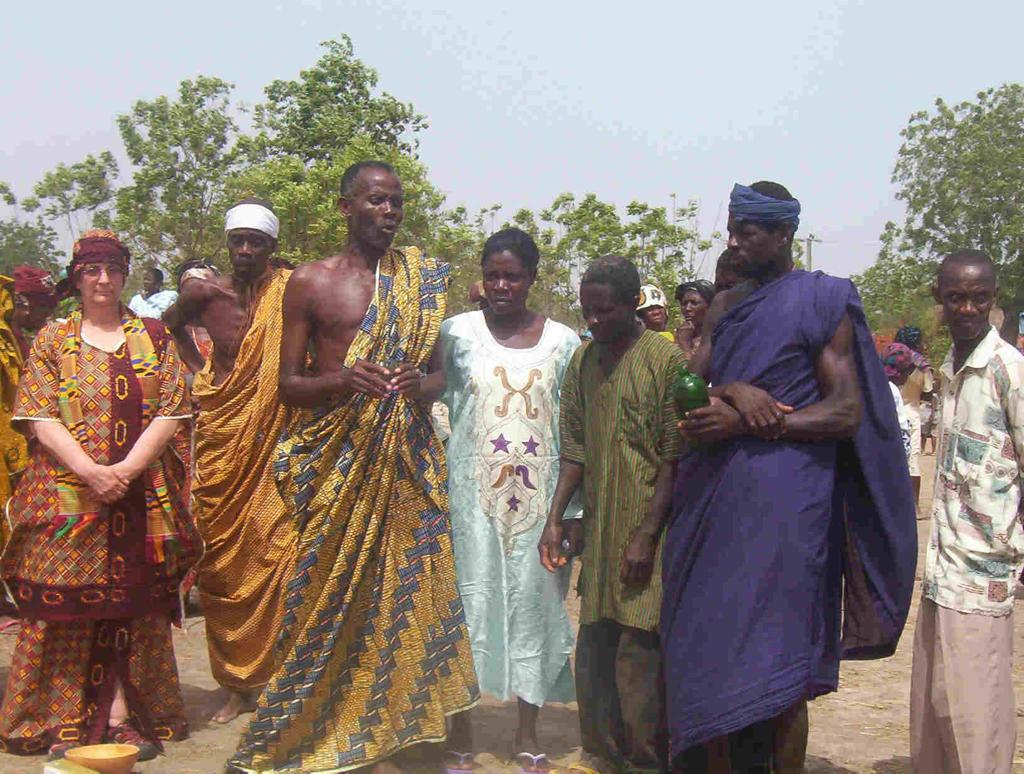face: (351, 171, 404, 249), (940, 269, 994, 340), (580, 283, 630, 344), (727, 214, 778, 273), (483, 253, 530, 313), (81, 258, 125, 304), (230, 231, 271, 277), (715, 268, 749, 310), (23, 296, 55, 332), (681, 292, 711, 327), (641, 300, 668, 329), (894, 365, 913, 385), (144, 271, 159, 291)
